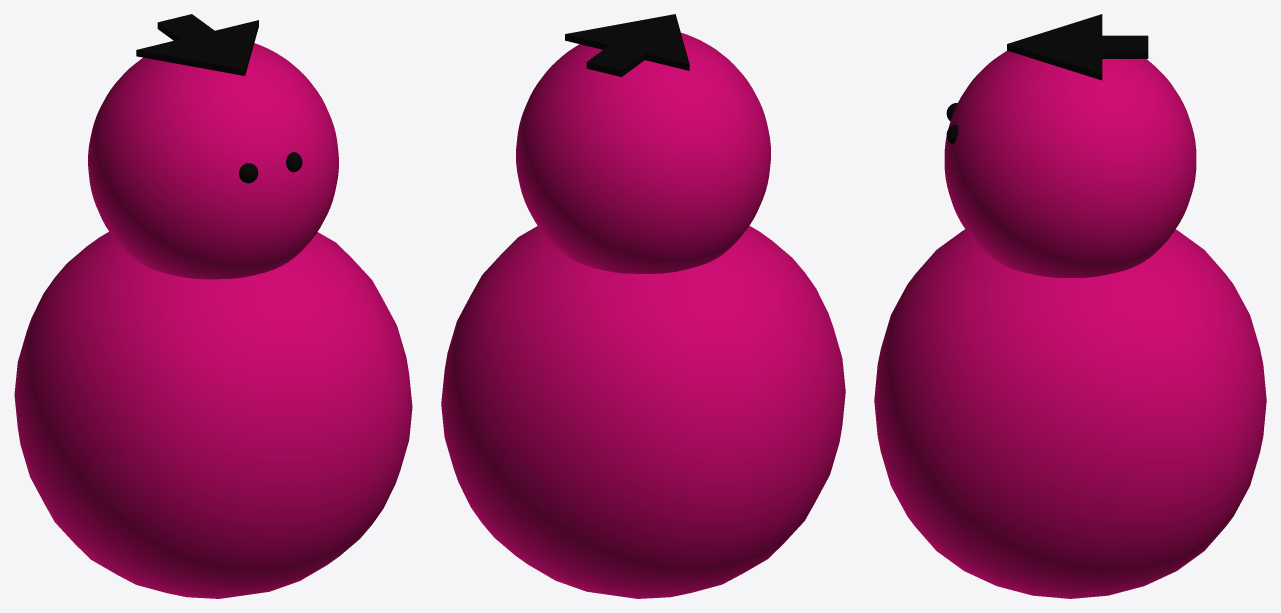
Rendered from 1pink.obj.
3 views of the same model, side by side, from view 1: azimuth 30°, elevation 25°; view 2: azimuth 150°, elevation 25°; view 3: azimuth 270°, elevation 25° (orthographic).
Parts seen in each view (by area): view 1: Cube.002_Cube.003_Material.004, Cube.002_Cube.003_SVGMat; view 2: Cube.002_Cube.003_Material.004, Cube.002_Cube.003_SVGMat; view 3: Cube.002_Cube.003_Material.004, Cube.002_Cube.003_SVGMat.
Boxes of the visible parts, x1,y1,x2,y2 form: Cube.002_Cube.003_Material.004: (14, 43, 412, 598); Cube.002_Cube.003_SVGMat: (136, 14, 302, 183); Cube.002_Cube.003_Material.004: (441, 32, 845, 598); Cube.002_Cube.003_SVGMat: (565, 14, 689, 76); Cube.002_Cube.003_Material.004: (874, 50, 1266, 598); Cube.002_Cube.003_SVGMat: (946, 14, 1148, 144).
Size of the model in its own units: 0.3205 by 0.4814 by 0.3205.
